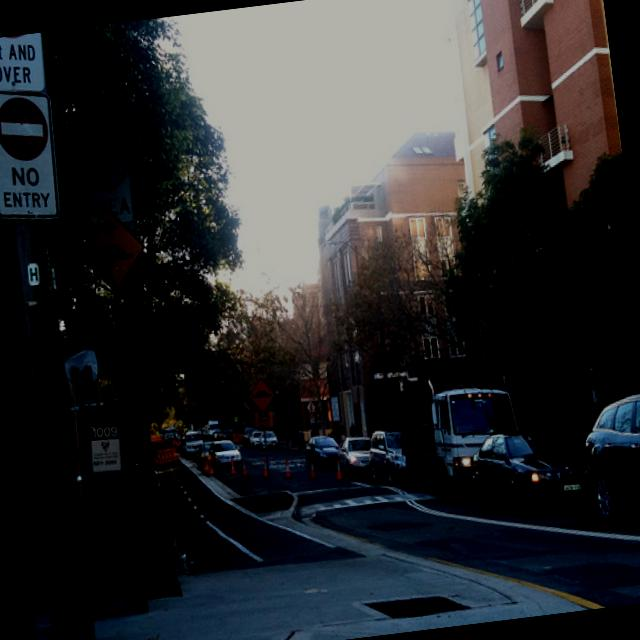Vehicle: (395, 375, 525, 510), (466, 422, 598, 528), (576, 392, 640, 540), (366, 428, 410, 488), (335, 434, 375, 480), (303, 433, 342, 472), (207, 438, 244, 472), (258, 428, 280, 451), (193, 442, 214, 466), (240, 426, 258, 448), (248, 431, 264, 448), (160, 426, 176, 441), (210, 429, 226, 441), (220, 427, 233, 439)
